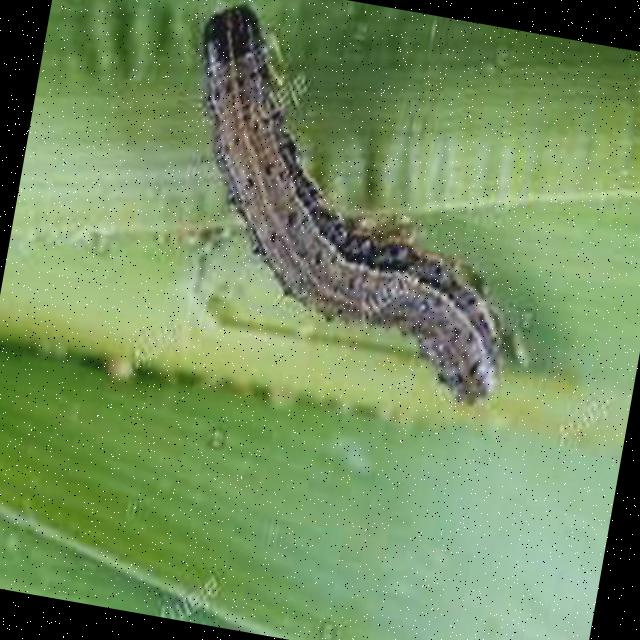worm: (145, 1, 583, 420)
